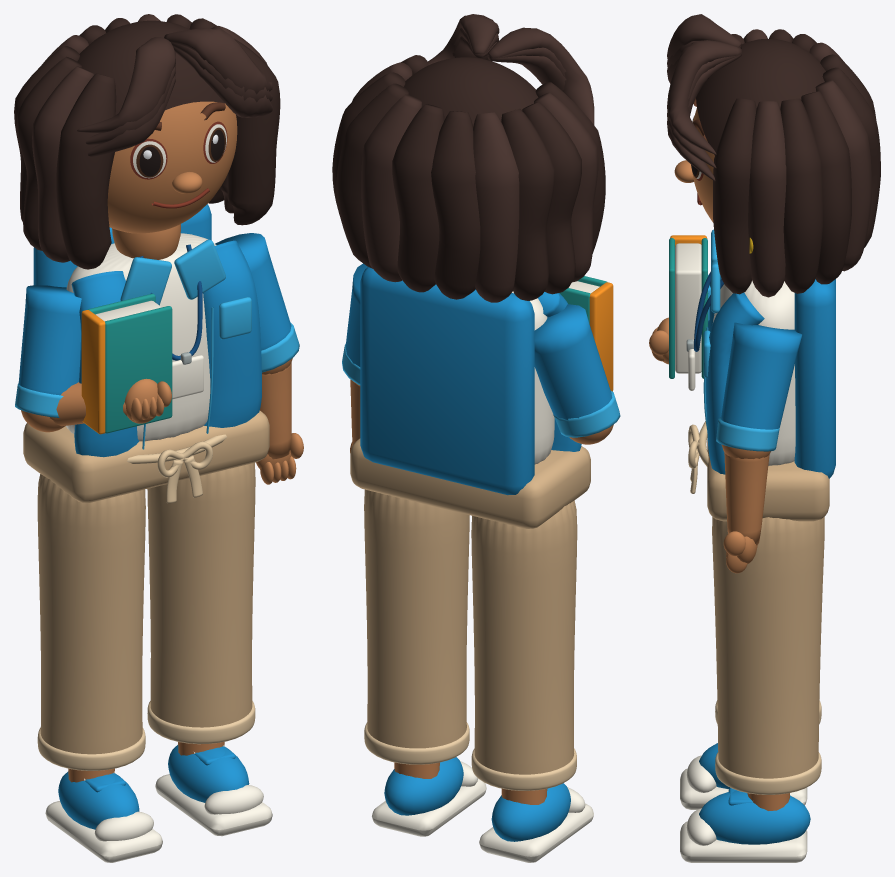
Rendered from educator.glb.
The picture shows the model from 3 angles, left to right: view 1: azimuth 30°, elevation 25°; view 2: azimuth 150°, elevation 25°; view 3: azimuth 270°, elevation 25°; orthographic projection. The views are drawn at different scales.
Visible parts, largest first — view 1: trouser_-1, trouser_1, trouser_waist, head_surface, wavy_hair_10, jacket_front_1, book_teal_cover, inner_white_shirt, jacket_sleeve_-1, wavy_hair_16, hair_scalp, wavy_hair_9 (+32 smaller); view 2: jacket_back, trouser_-1, trouser_1, trouser_waist, wavy_hair_5, wavy_hair_6, wavy_hair_4, jacket_sleeve_-1, wavy_hair_7, wavy_hair_3, hair_scalp, wavy_hair_8 (+21 smaller); view 3: trouser_1, jacket_back, hair_scalp, jacket_sleeve_1, wavy_hair_1, wavy_hair_0, wavy_hair_16, wavy_hair_2, trouser_waist, sneaker_1_upper, wavy_hair_3, jacket_front_1 (+23 smaller).
Part boxes in pixels (box(x1,y1,x2,y2)): trouser_-1: box(37, 474, 145, 754); trouser_1: box(147, 462, 255, 727); trouser_waist: box(23, 410, 269, 502); head_surface: box(107, 101, 237, 233); wavy_hair_10: box(56, 73, 116, 269); jacket_front_1: box(203, 240, 261, 427); book_teal_cover: box(105, 306, 172, 433); inner_white_shirt: box(65, 233, 216, 441); jacket_sleeve_-1: box(18, 285, 81, 395); wavy_hair_16: box(227, 38, 280, 225); hair_scalp: box(77, 20, 224, 114); wavy_hair_9: box(32, 66, 93, 262); jacket_back: box(360, 267, 534, 495); trouser_-1: box(471, 500, 577, 774); trouser_1: box(364, 489, 469, 748); trouser_waist: box(350, 438, 590, 528); wavy_hair_5: box(431, 111, 480, 299); wavy_hair_6: box(473, 112, 519, 302); wavy_hair_4: box(392, 104, 444, 292); jacket_sleeve_-1: box(534, 304, 612, 420); wavy_hair_7: box(501, 108, 554, 300); wavy_hair_3: box(361, 94, 421, 282); hair_scalp: box(404, 57, 538, 126); wavy_hair_8: box(522, 102, 581, 294); trouser_1: box(712, 517, 824, 778); jacket_back: box(794, 279, 835, 478); hair_scalp: box(696, 39, 825, 155); jacket_sleeve_1: box(721, 322, 801, 429); wavy_hair_1: box(780, 98, 822, 293); wavy_hair_0: box(748, 101, 786, 297); wavy_hair_16: box(713, 98, 756, 294); wavy_hair_2: box(801, 91, 851, 284); trouser_waist: box(707, 434, 829, 521); sneaker_1_upper: box(699, 790, 810, 844); wavy_hair_3: box(815, 80, 871, 271); jacket_front_1: box(705, 292, 764, 474).
Size of the model in its own units: 0.607 by 1.68 by 0.4447.
